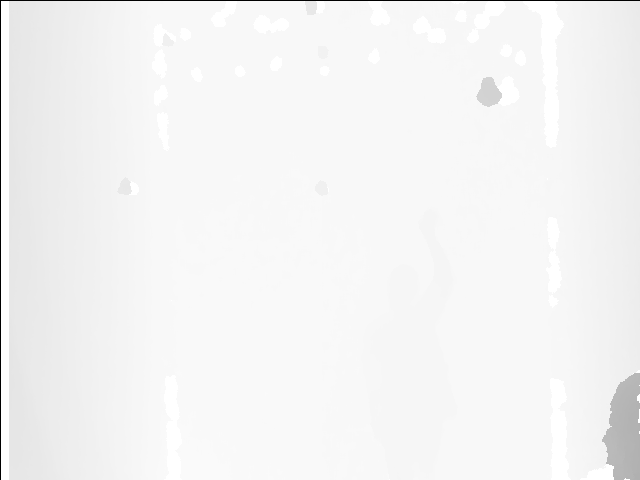hand: (420, 201, 445, 240)
